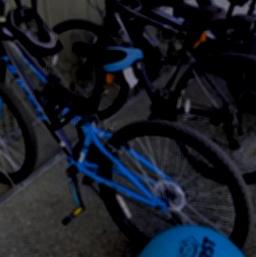algae: (129, 224, 256, 257)
